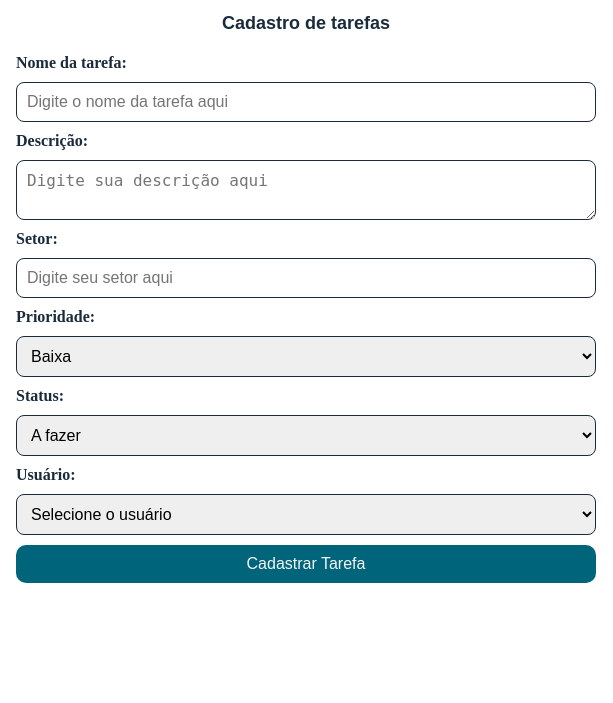
Scenario: Cadastro de tarefa › deve mostrar erros quando campos obrigatórios estiverem vazios
Step 1. Click the button "Cadastrar Tarefa" → (306, 564), box [16,545,596,583]
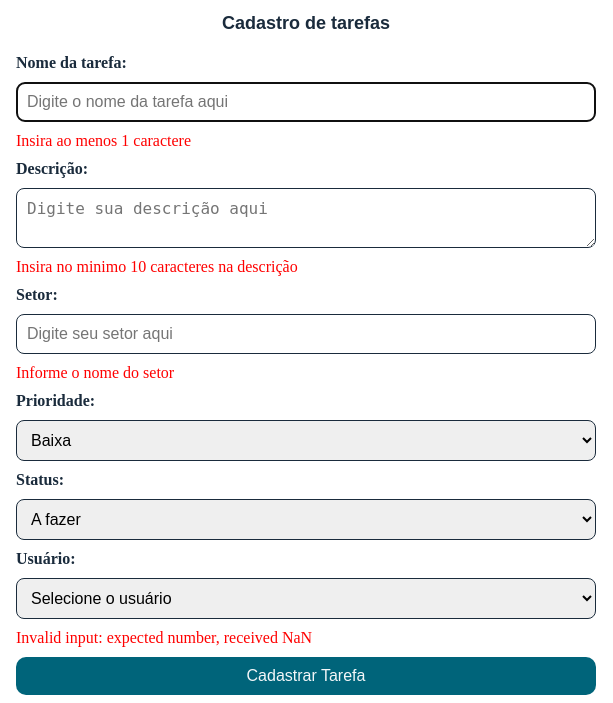
expect the text "Insira ao menos 1 caractere" is shown: met, box [16,132,191,149]
expect the text "Insira no minimo 10 caracteres na descrição" is shown: met, box [16,258,298,275]
expect the text "Informe o nome do setor" is shown: met, box [16,364,174,381]
